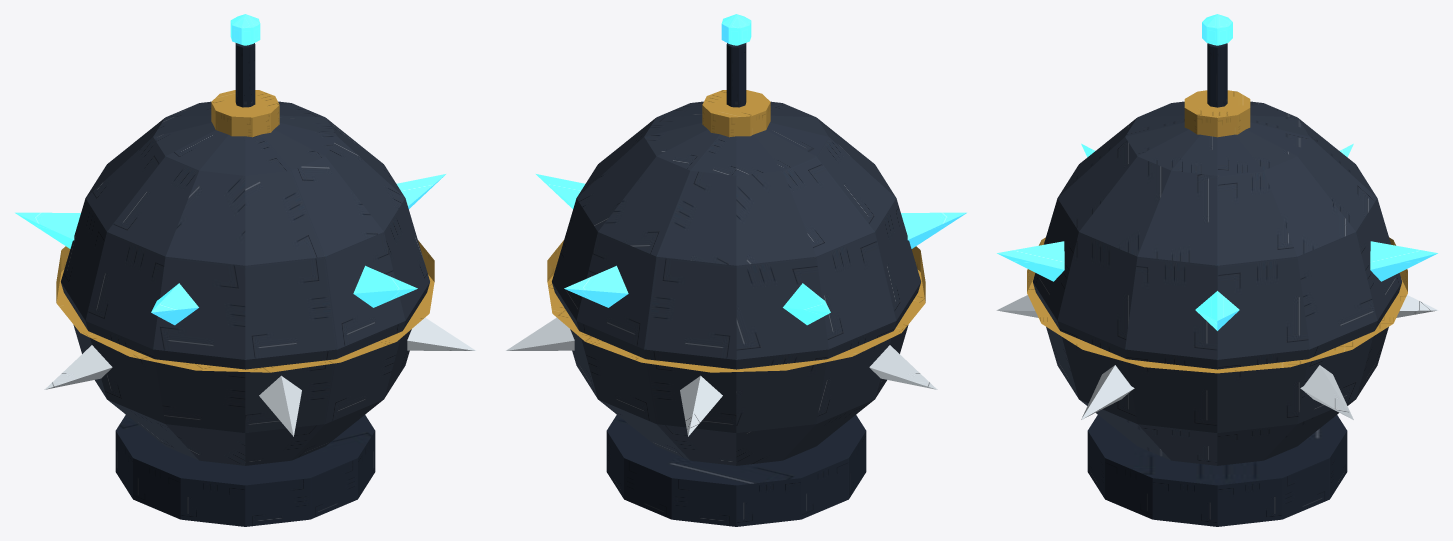
Rendered from shard.glb.
3 renders of one model, left to right at view 1: azimuth 30°, elevation 25°; view 2: azimuth 150°, elevation 25°; view 3: azimuth 270°, elevation 25°, orthographic.
Parts seen in each view (by area): view 1: body, fuse; view 2: body, fuse; view 3: body, fuse.
Boxes of the visible parts, <box> form: body: <box>15,90,475,526</box>; fuse: <box>230,14,260,107</box>; body: <box>506,90,966,526</box>; fuse: <box>721,14,751,107</box>; body: <box>996,90,1438,526</box>; fuse: <box>1202,14,1232,107</box>.
Bounding box in the file's own units: 0.3654 × 0.3973 × 0.3476.
5 materials, 5 textured.
